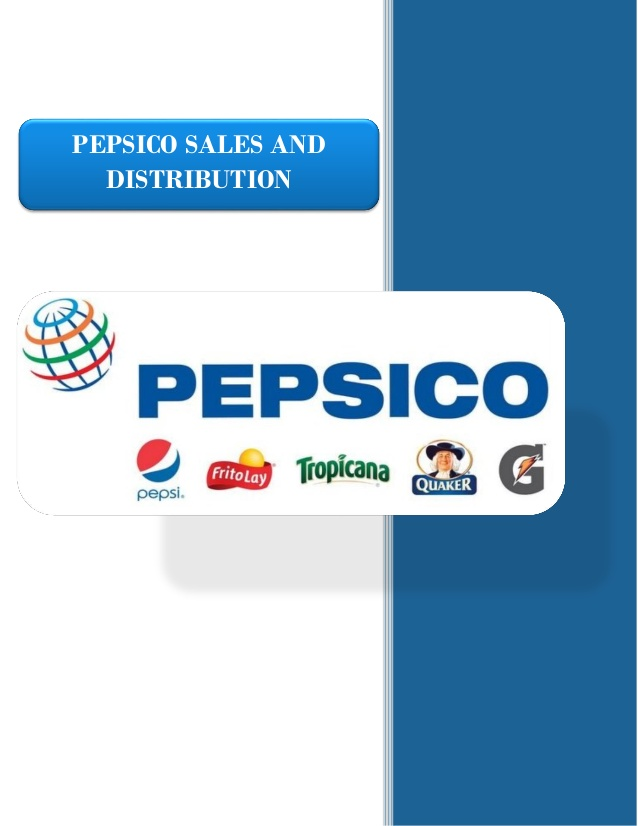pepsi: (138, 437, 179, 483)
